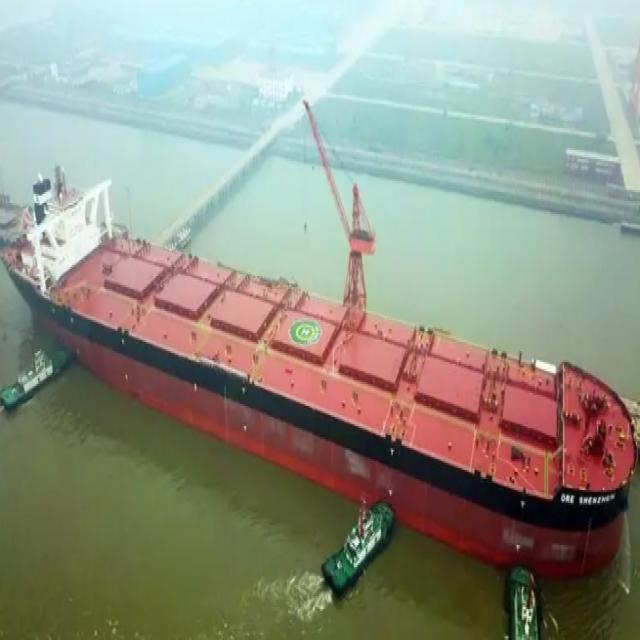cargoship: (6, 167, 630, 566)
houseboat: (321, 490, 400, 594), (1, 343, 70, 412), (504, 561, 543, 640)
